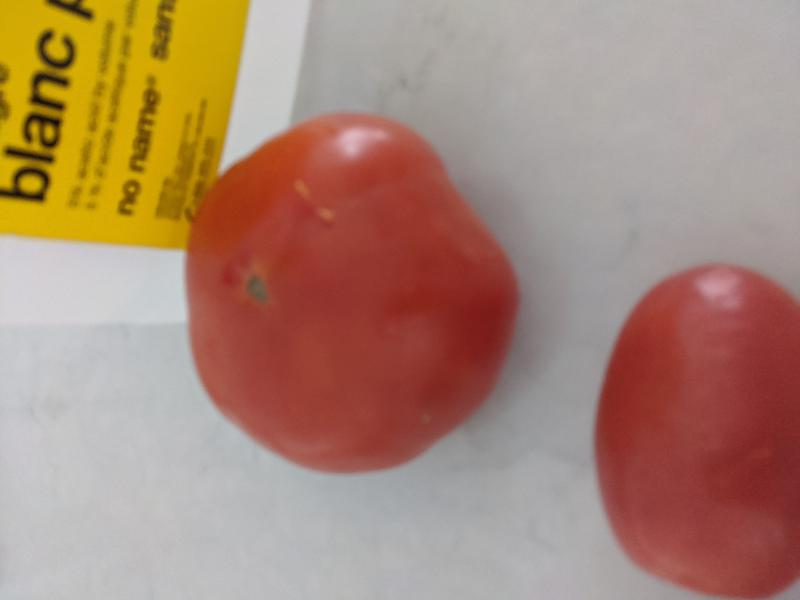tomato: (185, 111, 521, 475), (594, 263, 800, 600)
